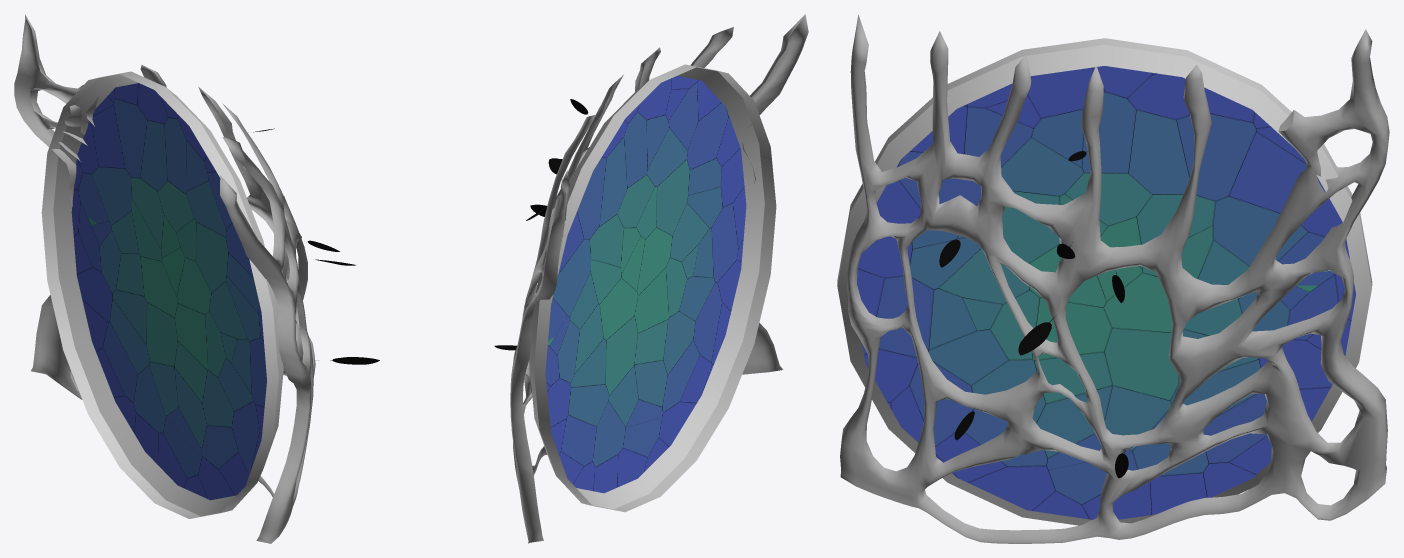
Rendered from vitre_avec_barriere.fbx.
3 views of the same model, side by side, from view 1: azimuth 30°, elevation 25°; view 2: azimuth 150°, elevation 25°; view 3: azimuth 270°, elevation 25° (orthographic). The views are drawn at different scales.
Parts seen in each view (by area): view 1: vitre_avec_barriere; view 2: vitre_avec_barriere; view 3: vitre_avec_barriere.
Part boxes in pixels (x1=…): vitre_avec_barriere: x1=14, y1=14, x2=379, y2=543; vitre_avec_barriere: x1=494, y1=14, x2=808, y2=543; vitre_avec_barriere: x1=837, y1=14, x2=1389, y2=543.
Size of the model in its own units: 53.37 by 86.26 by 87.97.
